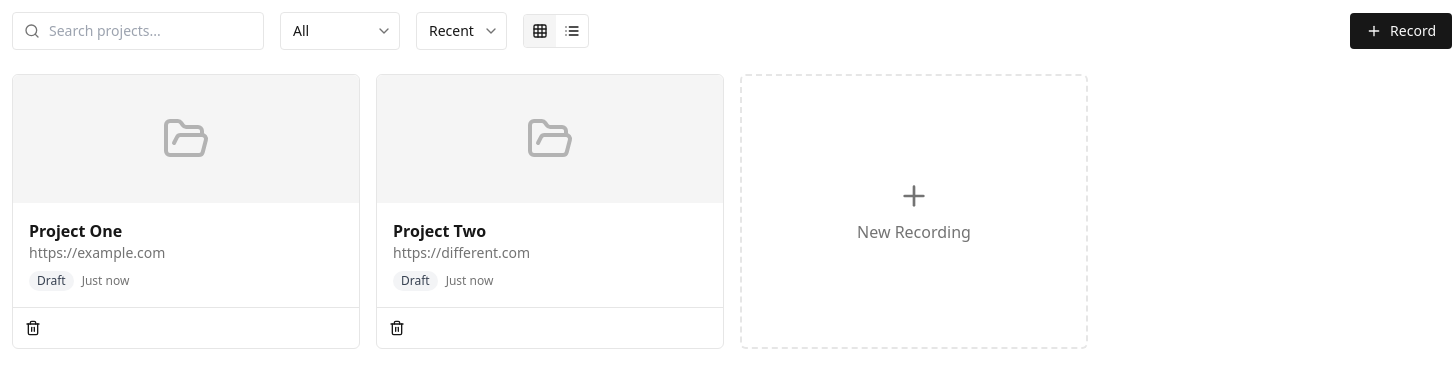
Test: ProjectList › should search by source URL
Type "example.com" into the field with placeholder "Search projects...". click: (138, 31)
box: [12, 12, 264, 50]
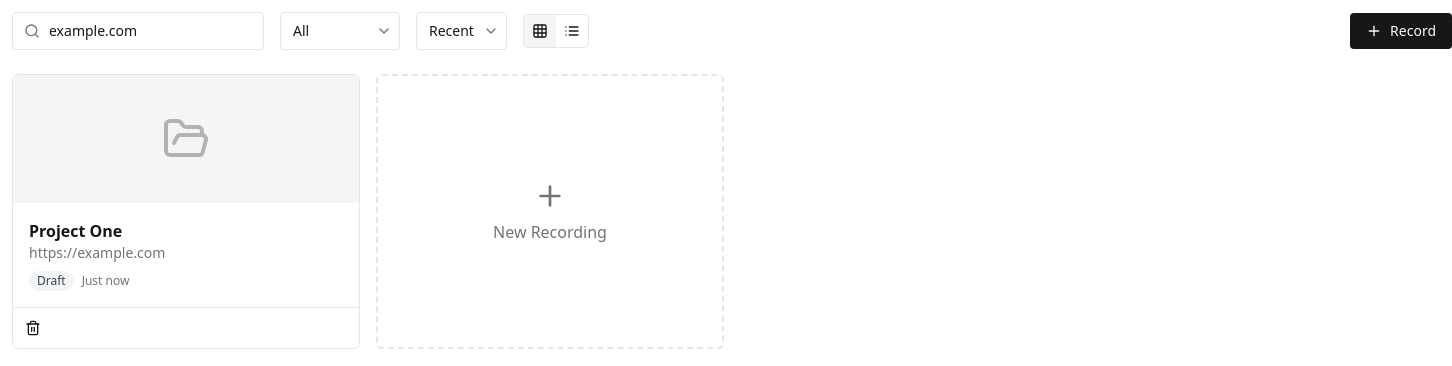
Check: the heading "Project One" is shown, box [29, 220, 122, 242]
Check: the link "Project Two" is gone
